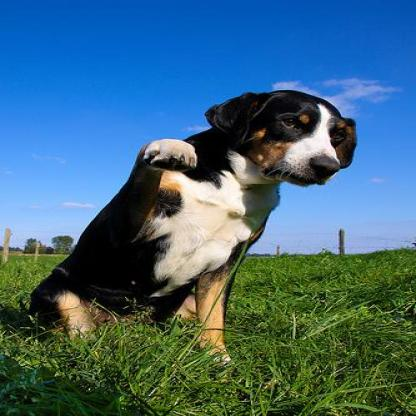Appenzeller: (25, 87, 356, 366)
